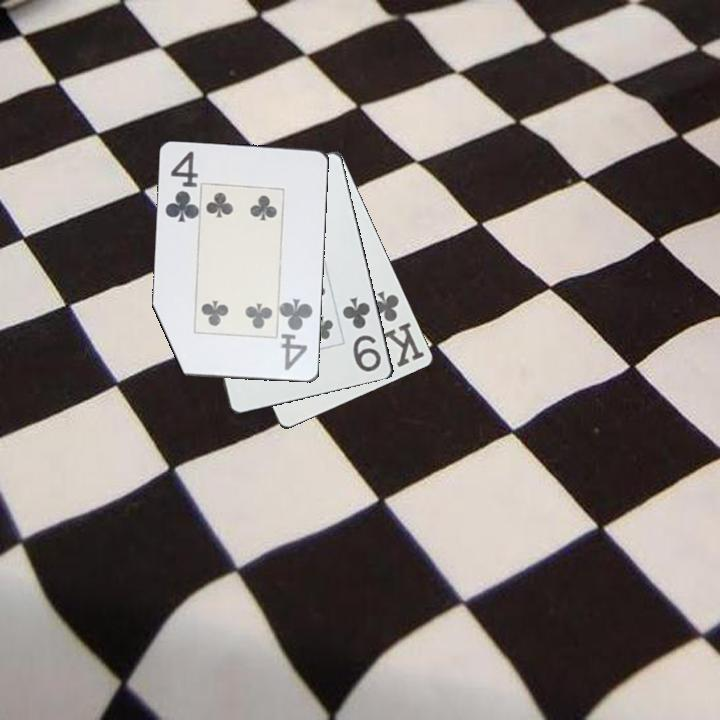4c: (277, 295, 316, 373), (162, 148, 201, 226)
9c: (339, 293, 384, 375)
Kc: (368, 287, 428, 370)
